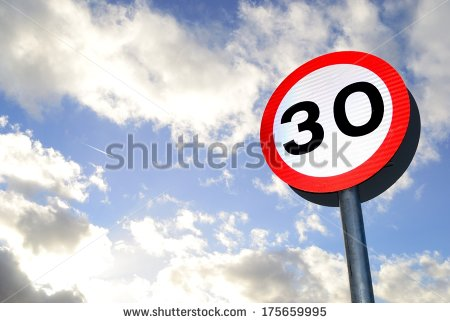Speed_limit_30km: (254, 50, 419, 198)
